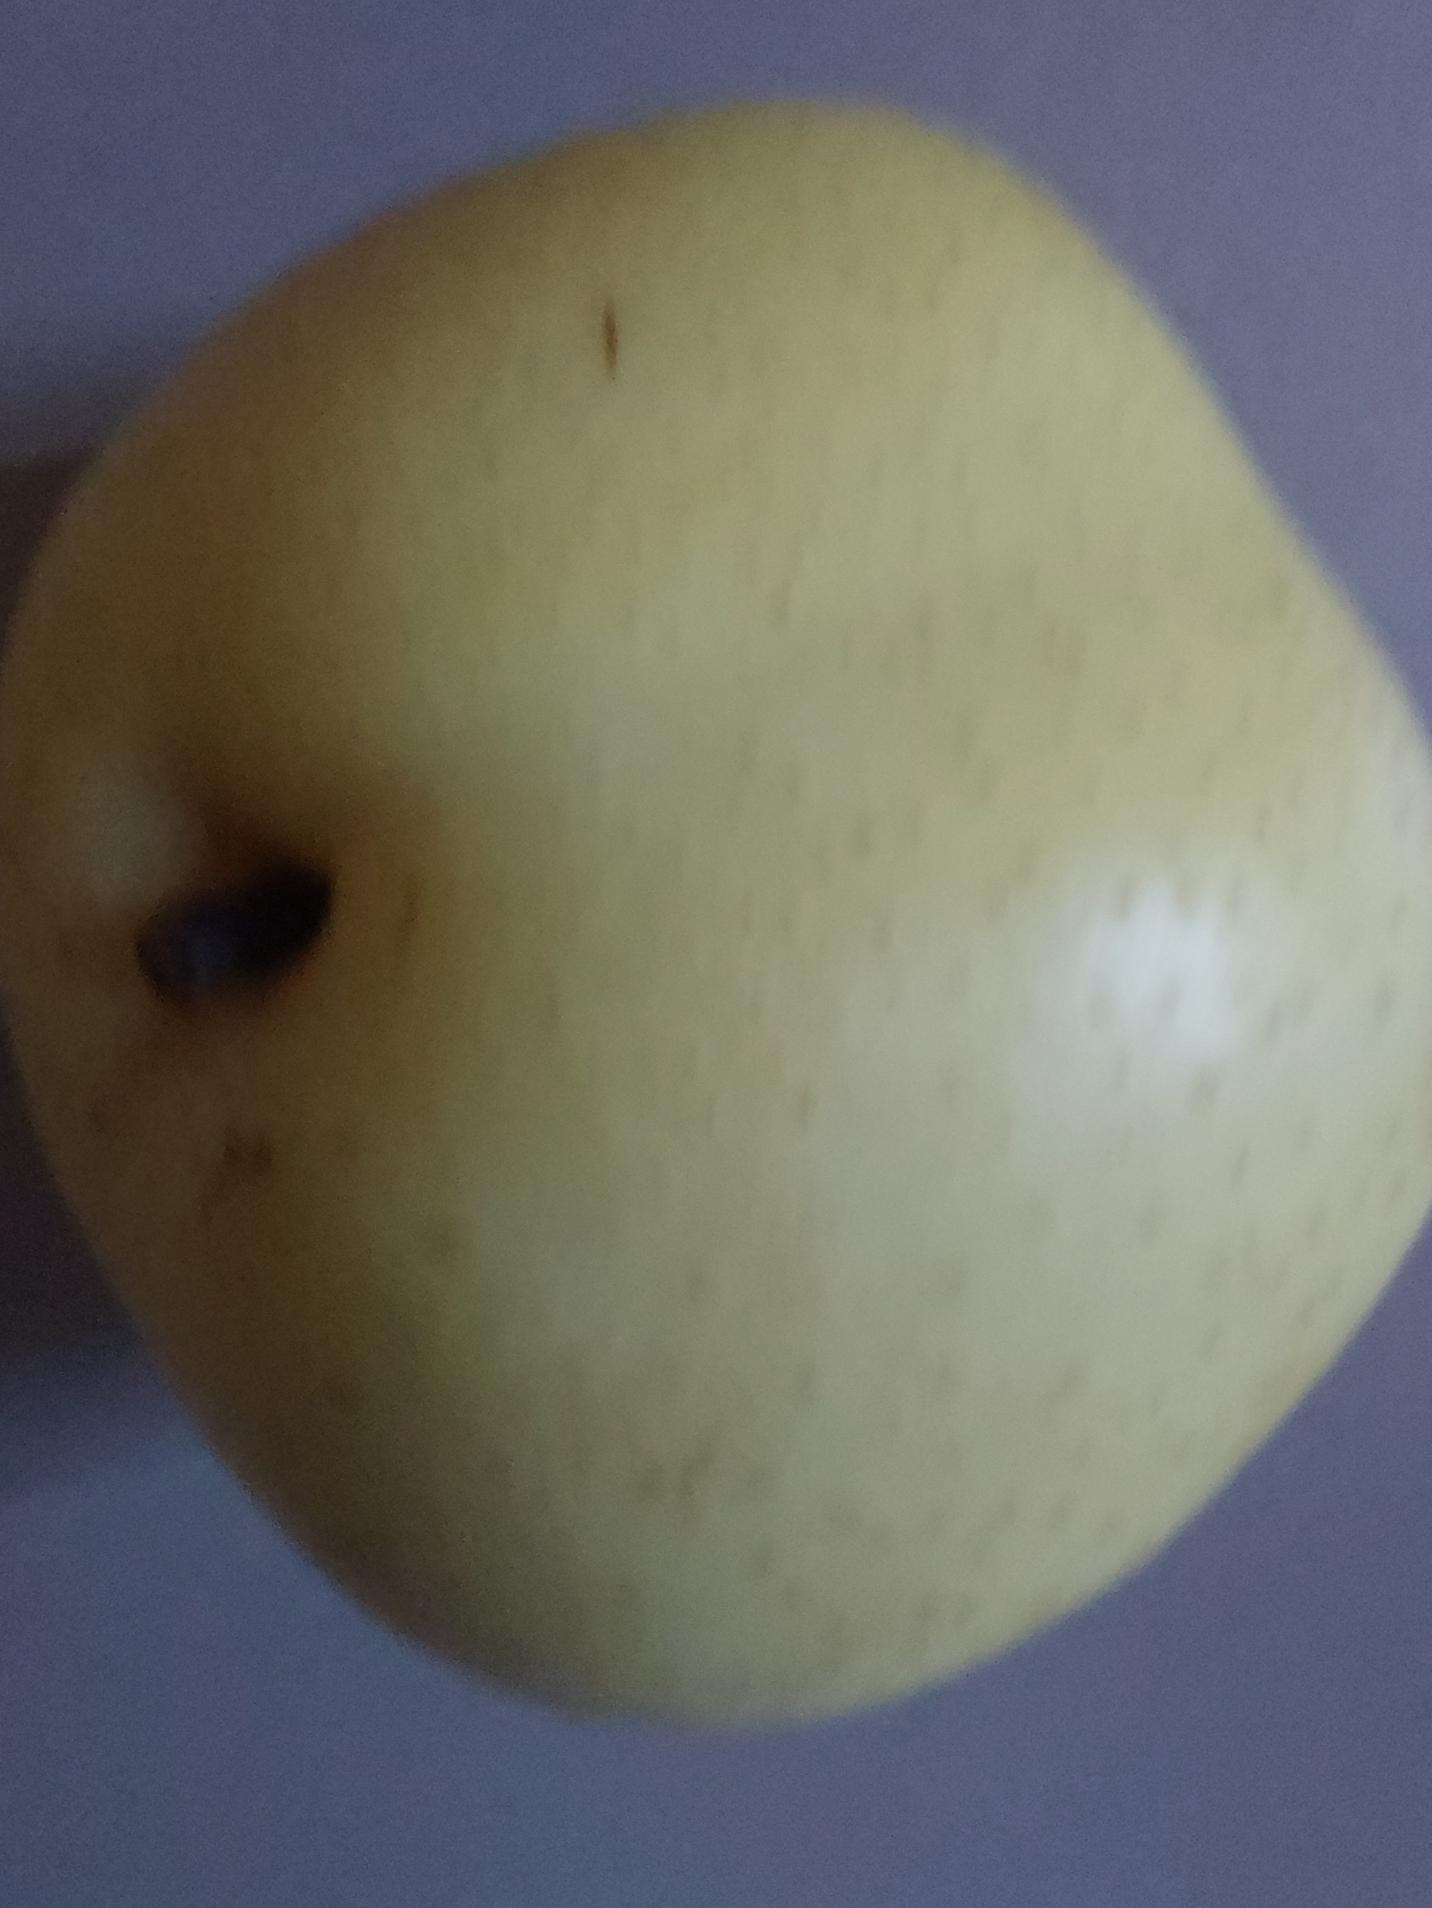Good Pear: (0, 0, 1432, 1774)
